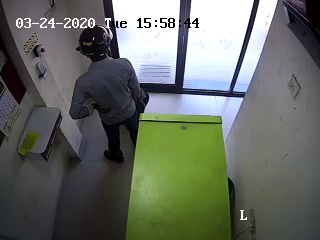helmet: (74, 24, 118, 64)
